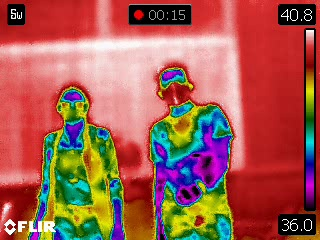human: (27, 80, 127, 240), (149, 63, 235, 240)
